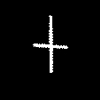single_crochet: (33, 16, 67, 72)
